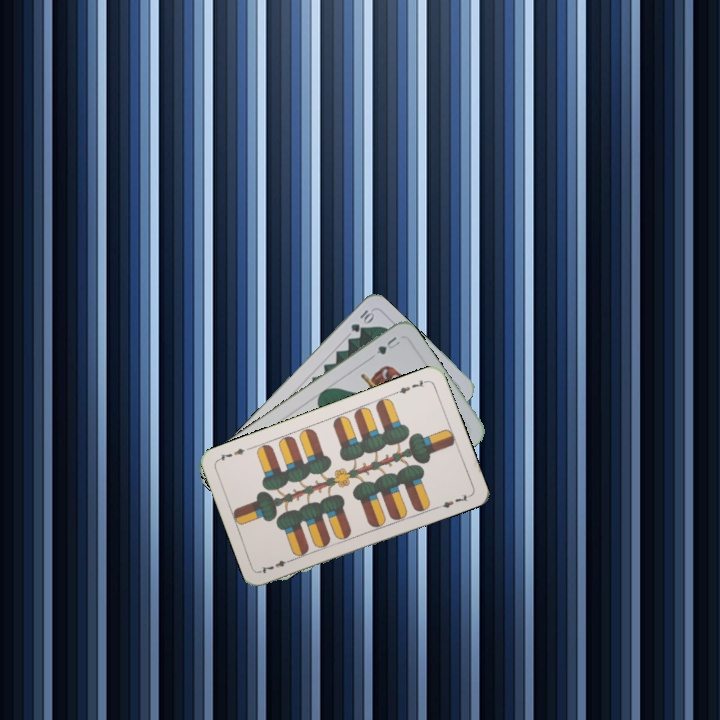E7: (257, 554, 296, 576), (391, 376, 430, 397)
G10: (347, 306, 376, 335)
GU: (372, 332, 403, 357)
